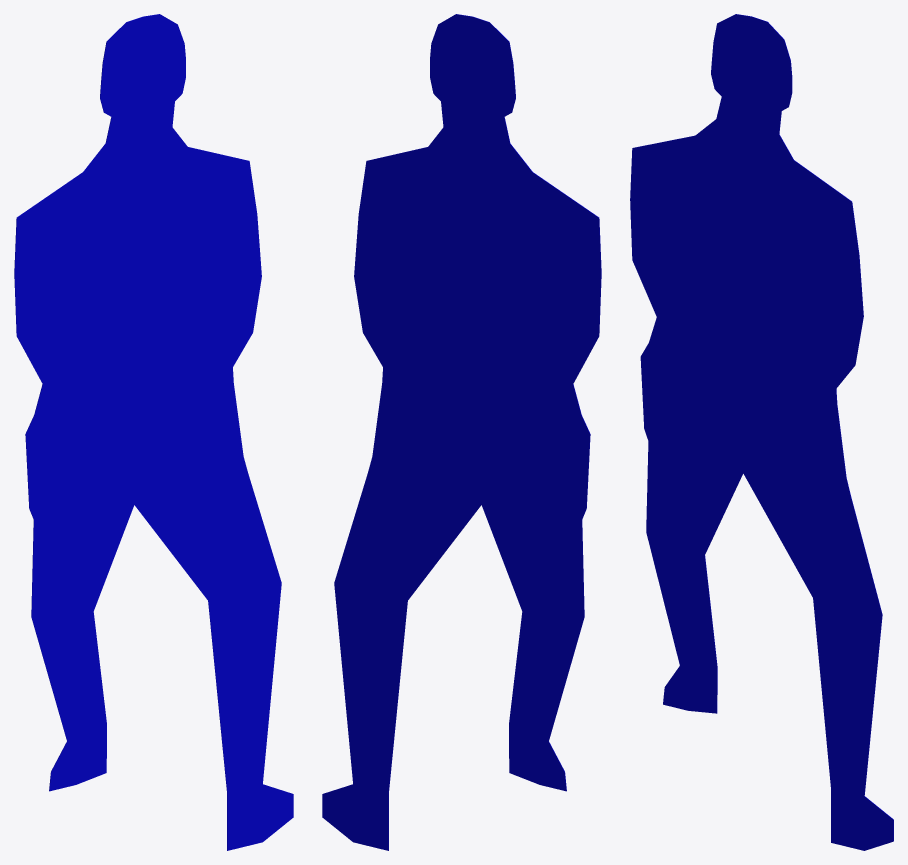
Rendered from Human_sitting.fbx.
3 views of the same model, side by side, from view 1: azimuth 30°, elevation 25°; view 2: azimuth 150°, elevation 25°; view 3: azimuth 330°, elevation 25° (orthographic). The views are drawn at different scales.
Visible parts, largest first — view 1: Human_sitting; view 2: Human_sitting; view 3: Human_sitting.
Part boxes in pixels (x1=…): Human_sitting: x1=14, y1=14, x2=293, y2=850; Human_sitting: x1=322, y1=14, x2=601, y2=850; Human_sitting: x1=630, y1=14, x2=893, y2=850.
Bounding box in the file's own units: 16.53 × 48.37 × 0.0327.
